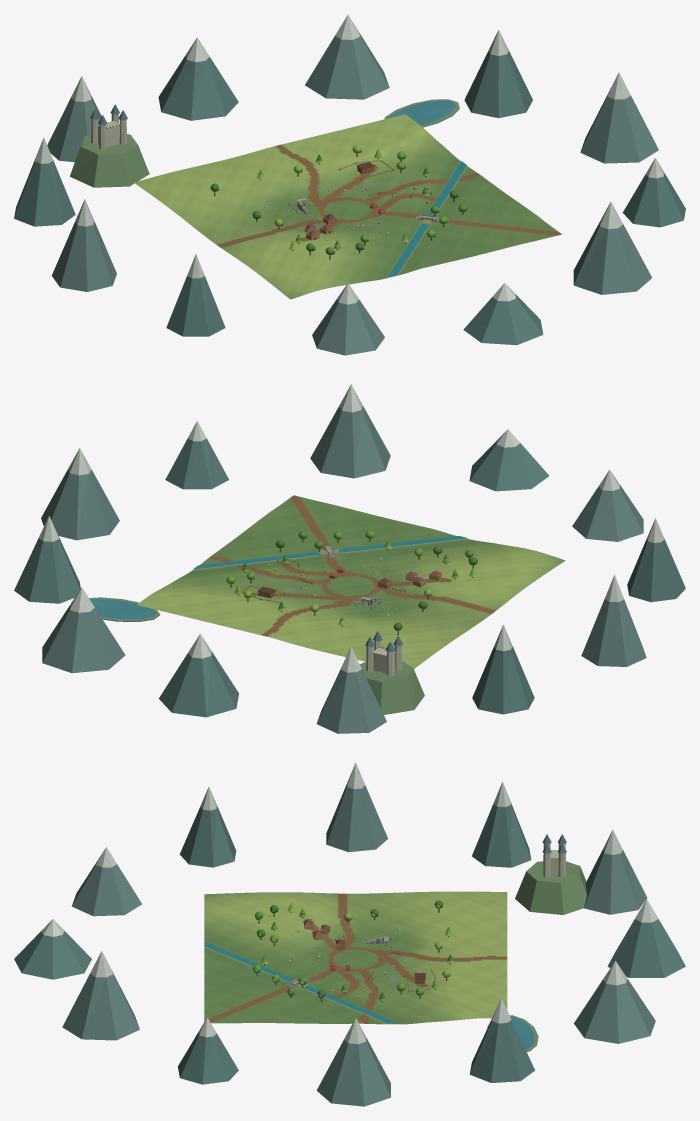
File: fantasy-meadow.glb
The picture shows the model from 3 angles, top to bottom: view 1: azimuth 30°, elevation 25°; view 2: azimuth 150°, elevation 25°; view 3: azimuth 270°, elevation 25°; orthographic projection. The views are drawn at different scales.
Visible parts, largest first — view 1: Meadow terrain - 160m square, Backdrop mountain 3, Backdrop mountain 11, Backdrop mountain 1, Backdrop mountain 10, Backdrop mountain 12, Backdrop mountain 7, Backdrop castle plateau, Backdrop mountain 5, Backdrop mountain 8, Backdrop mountain 4, Backdrop mountain 6 (+4 smaller); view 2: Meadow terrain - 160m square, Backdrop mountain 3, Backdrop mountain 11, Backdrop mountain 1, Backdrop mountain 10, Backdrop mountain 9, Backdrop mountain 12, Backdrop mountain 7, Backdrop mountain 8, Backdrop mountain 5, Backdrop mountain 4, Backdrop mountain 6 (+4 smaller); view 3: Meadow terrain - 160m square, Backdrop mountain 11, Backdrop mountain 3, Backdrop mountain 1, Backdrop mountain 10, Backdrop mountain 9, Backdrop mountain 7, Backdrop castle plateau, Backdrop mountain 12, Backdrop mountain 4, Backdrop mountain 8, Backdrop mountain 5 (+3 smaller).
Part boxes in pixels (<box>): Meadow terrain - 160m square: <box>134,114,561,299</box>; Backdrop mountain 3: <box>573,222,651,294</box>; Backdrop mountain 11: <box>305,32,389,99</box>; Backdrop mountain 1: <box>580,92,658,163</box>; Backdrop mountain 10: <box>158,55,238,120</box>; Backdrop mountain 12: <box>464,51,532,118</box>; Backdrop mountain 7: <box>51,221,116,291</box>; Backdrop castle plateau: <box>70,134,149,187</box>; Backdrop mountain 5: <box>312,299,384,355</box>; Backdrop mountain 8: <box>14,159,75,226</box>; Backdrop mountain 4: <box>463,294,543,345</box>; Backdrop mountain 6: <box>166,276,225,336</box>; Meadow terrain - 160m square: <box>137,495,565,668</box>; Backdrop mountain 3: <box>310,406,390,478</box>; Backdrop mountain 11: <box>42,605,125,673</box>; Backdrop mountain 1: <box>41,469,119,540</box>; Backdrop mountain 10: <box>159,652,238,717</box>; Backdrop mountain 9: <box>316,668,386,733</box>; Backdrop mountain 12: <box>14,536,80,603</box>; Backdrop mountain 7: <box>581,599,646,666</box>; Backdrop mountain 8: <box>472,646,534,714</box>; Backdrop mountain 5: <box>572,485,643,541</box>; Backdrop mountain 4: <box>469,440,548,491</box>; Backdrop mountain 6: <box>627,538,685,602</box>; Meadow terrain - 160m square: <box>204,891,507,1024</box>; Backdrop mountain 11: <box>574,979,655,1043</box>; Backdrop mountain 3: <box>62,971,139,1040</box>; Backdrop mountain 1: <box>316,1038,390,1106</box>; Backdrop mountain 10: <box>607,916,685,977</box>; Backdrop mountain 9: <box>584,849,647,914</box>; Backdrop mountain 7: <box>326,784,387,852</box>; Backdrop castle plateau: <box>515,861,586,914</box>; Backdrop mountain 12: <box>469,1018,535,1082</box>; Backdrop mountain 4: <box>14,931,91,979</box>; Backdrop mountain 8: <box>472,803,531,867</box>; Backdrop mountain 5: <box>71,862,141,916</box>.
Size of the model in its own units: 351 by 44.58 by 355.
